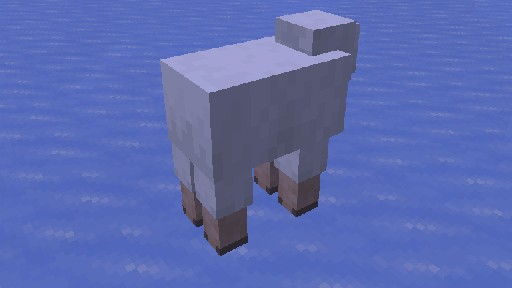sheep: (159, 8, 360, 255)
